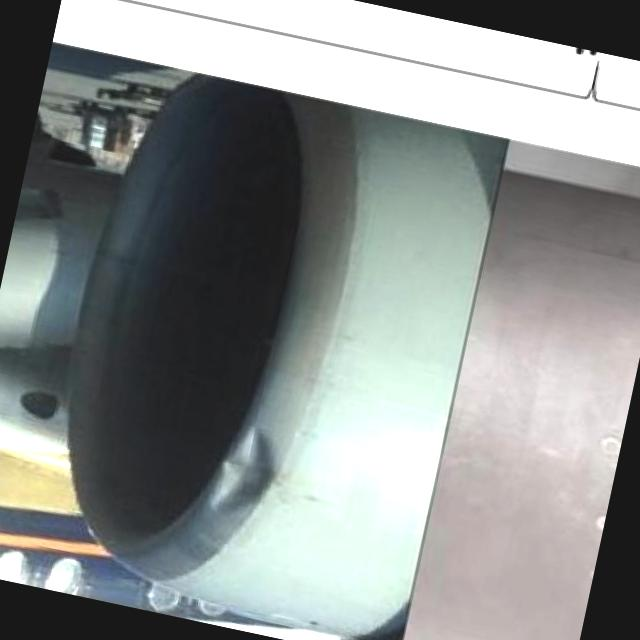dent: (206, 428, 281, 514)
